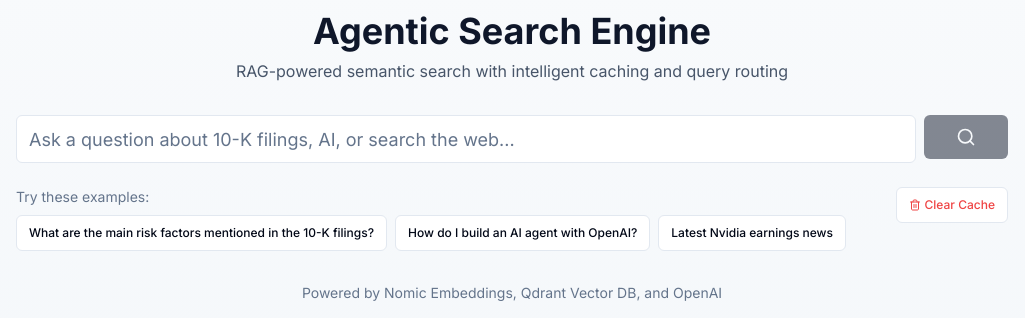
Scenario: SearchPage › Search Functionality › enables search button when input has text
Type "test query" into the field with placeholder "Ask a question about 10-K filings, AI, or search the web...". click: (466, 139)
box: [16,115,916,163]
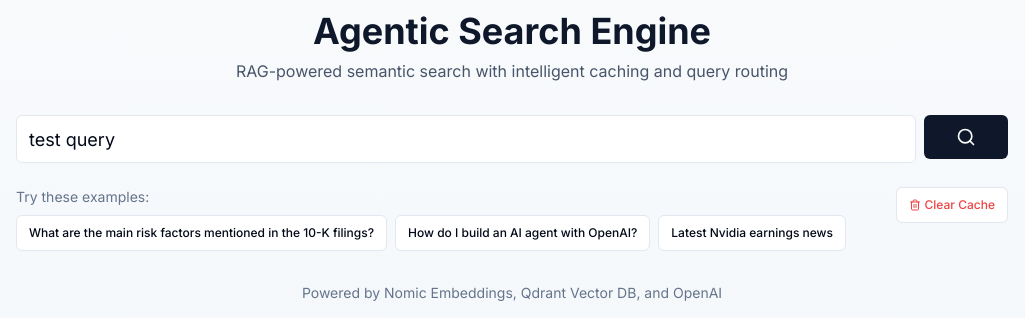
Expected: the 1st button is enabled, [924,115,1008,159]
